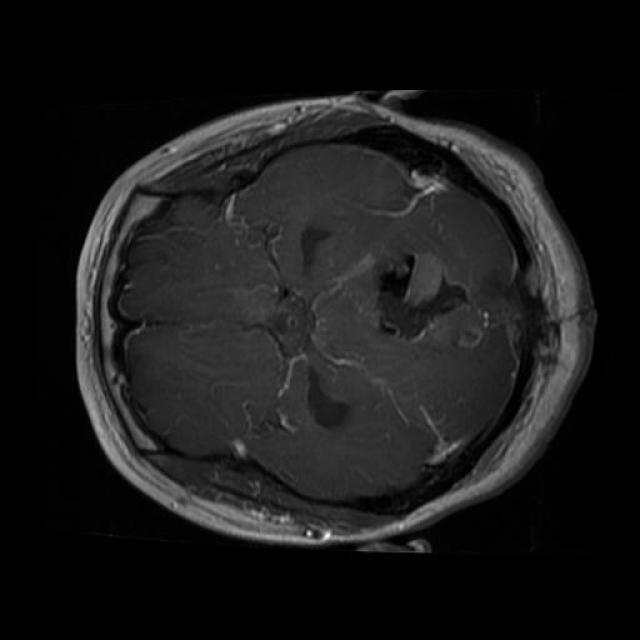Glioma: (371, 249, 522, 348)
